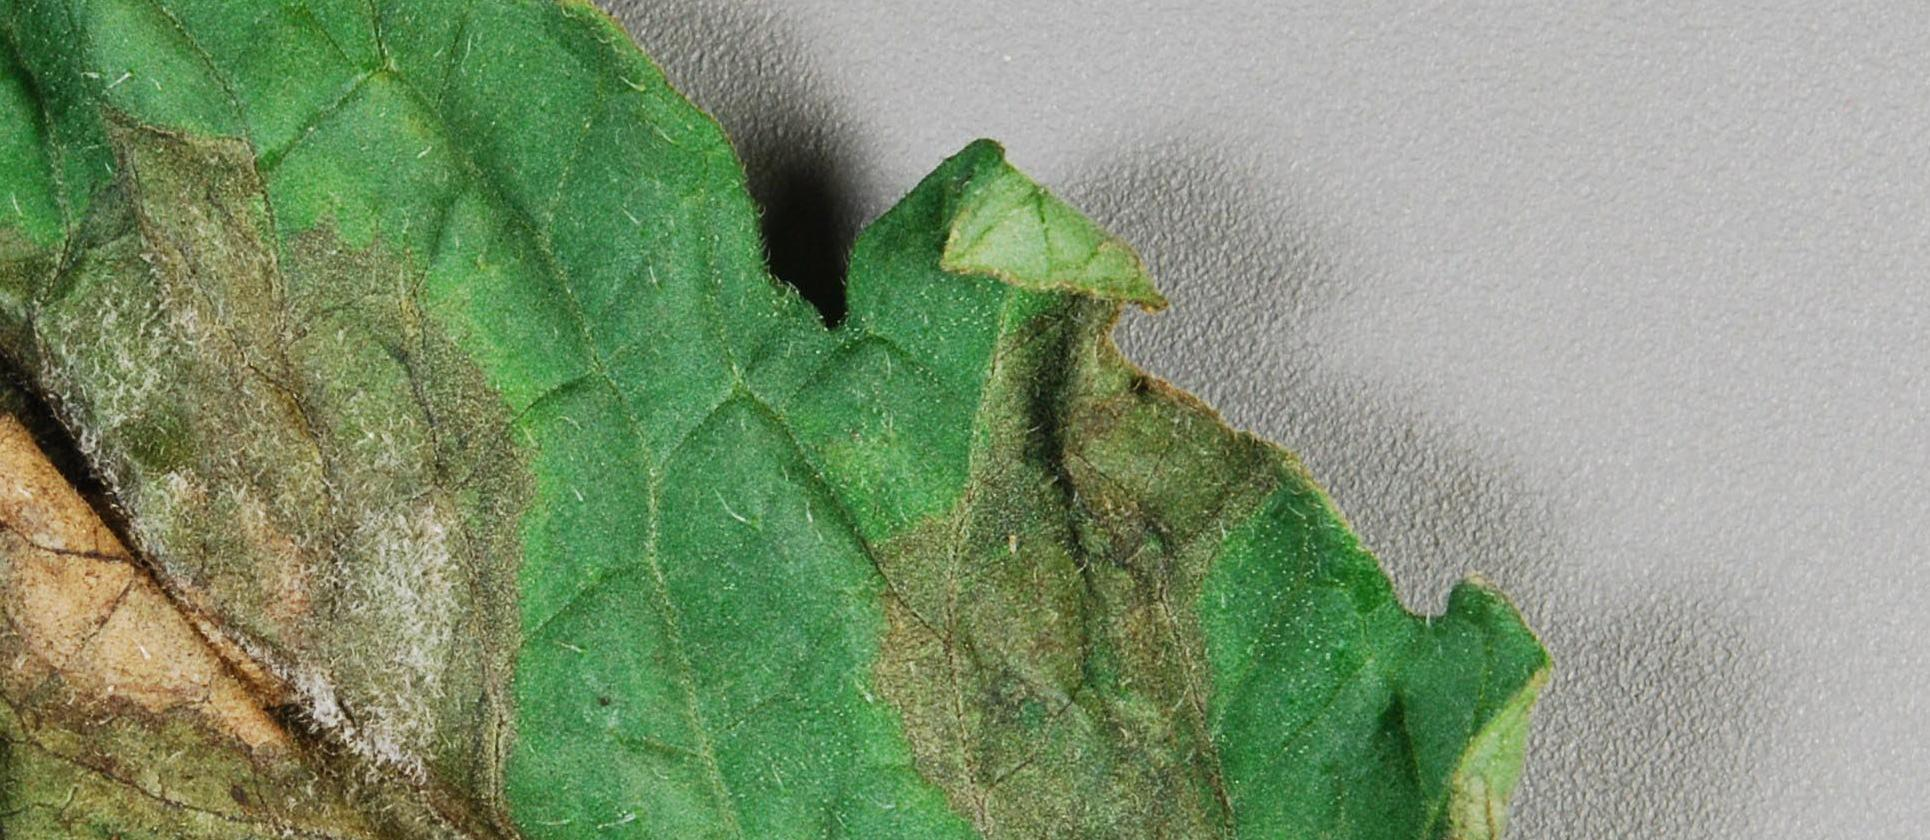Tomato leaf late blight: (0, 0, 1571, 840)
